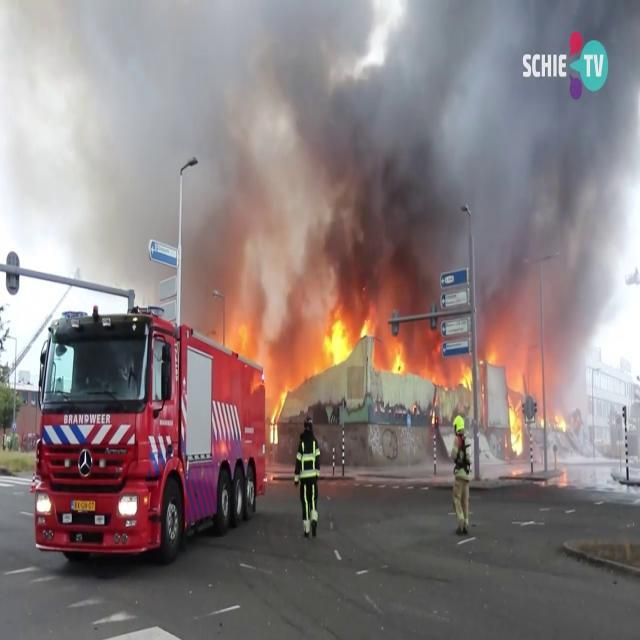Fire: (318, 306, 424, 381), (258, 358, 300, 454), (502, 358, 532, 458)
Smoke: (1, 0, 631, 310)
